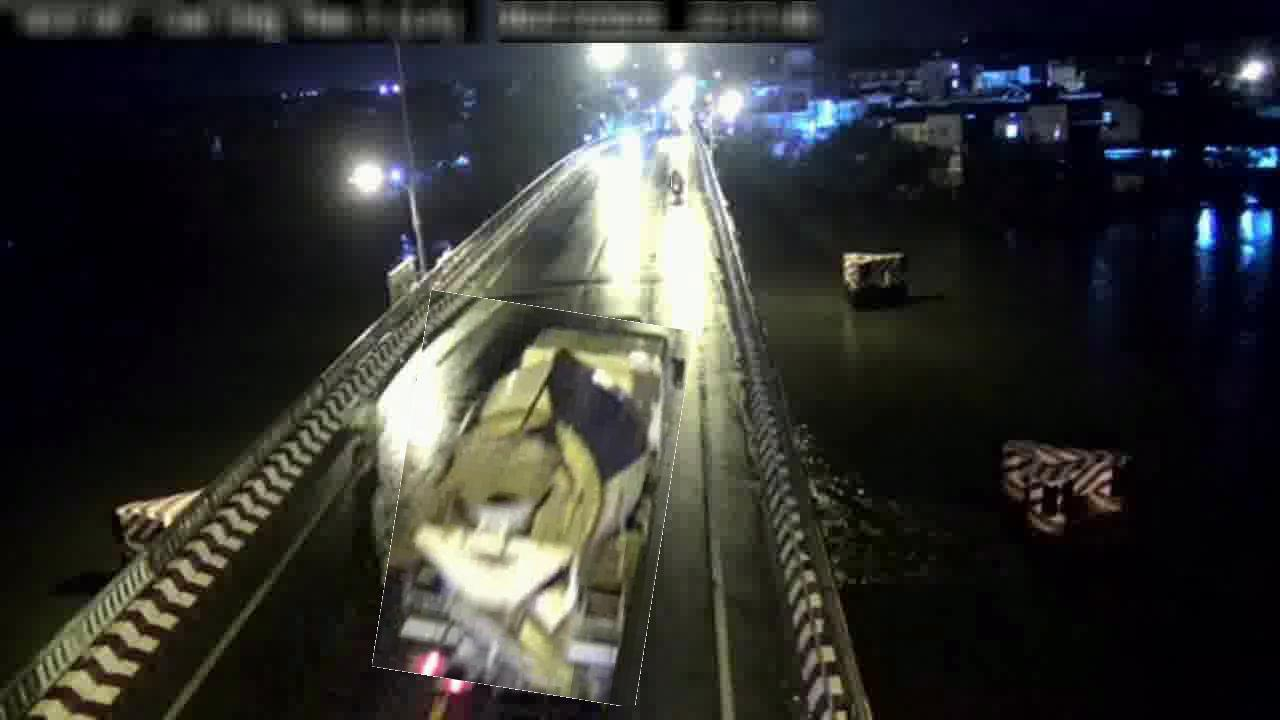8: (386, 299, 680, 698)
motorbike: (672, 170, 685, 204)
